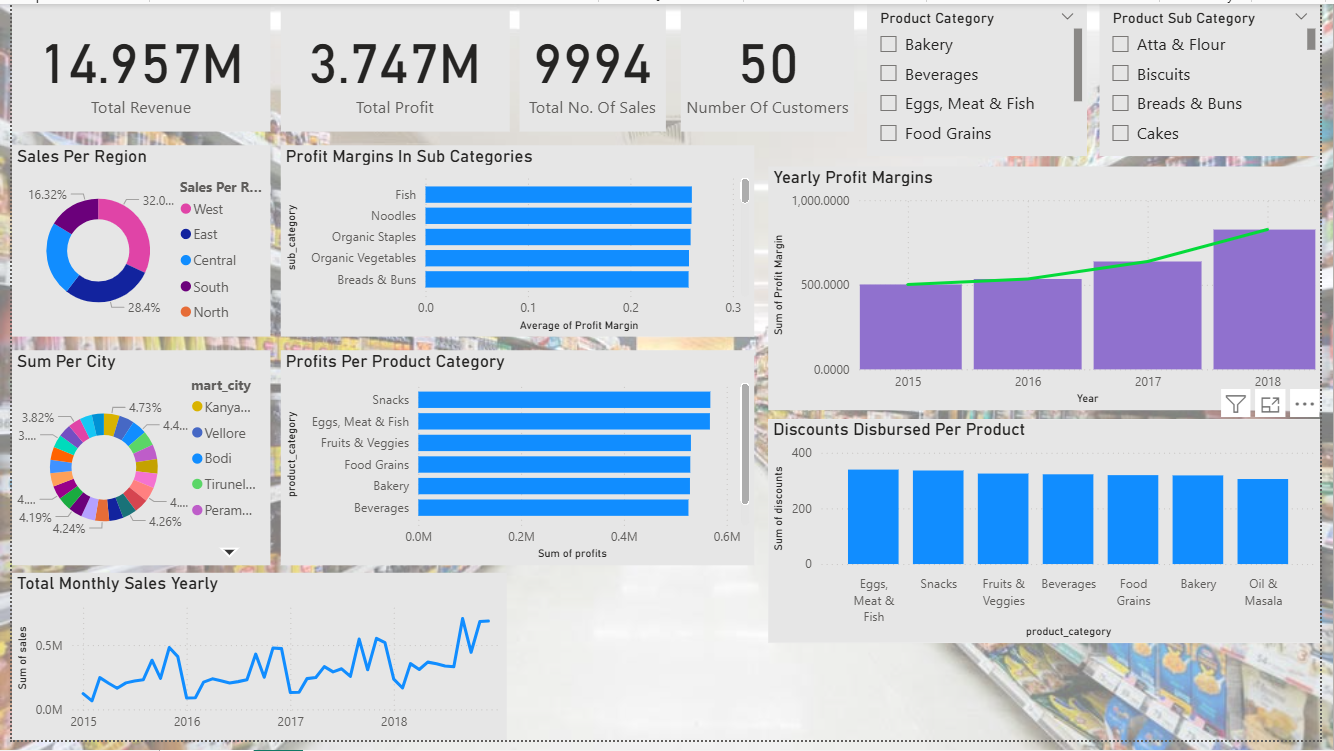

This screenshot's page, from the dashboard's own definition file:
{"tool":"powerbi","page":{"name":"Page 1","canvas":[1280,720],"ordinal":0},"visuals":[{"type":"lineChart","title":"Total Monthly Sales Yearly","fields":{"Category":["cleaned_supermart_sales_retail_data.order_date.Variation.Date Hierarchy.Year","cleaned_supermart_sales_retail_data.order_date.Variation.Date Hierarchy.Quarter","cleaned_supermart_sales_retail_data.order_date.Variation.Date Hierarchy.Month"],"Y":["Sum(cleaned_supermart_sales_retail_data.sales)"]},"box":[0,556.4,484.2,163.9],"z":0},{"type":"card","fields":{"Values":["CountNonNull(cleaned_supermart_sales_retail_data.order_id)"]},"box":[496.5,0,143.1,124.7],"z":1000},{"type":"card","fields":{"Values":["Count(cleaned_supermart_sales_retail_data.customer_name)"]},"box":[654.2,0,170,124.7],"z":2000},{"type":"slicer","fields":{"Values":["cleaned_supermart_sales_retail_data.product_category"]},"box":[836.4,0,215.2,149.2],"z":3000},{"type":"slicer","fields":{"Values":["cleaned_supermart_sales_retail_data.sub_category"]},"box":[1063.9,0,216.4,149.2],"z":4000},{"type":"donutChart","title":"Sales Per Region","fields":{"Category":["cleaned_supermart_sales_retail_data.mart_region"],"Y":["Sum(cleaned_supermart_sales_retail_data.sales)"]},"box":[0,138.2,253.1,187.1],"z":5000},{"type":"donutChart","title":"Sum Per City","fields":{"Category":["cleaned_supermart_sales_retail_data.mart_city"],"Y":["Sum(cleaned_supermart_sales_retail_data.sales)"]},"box":[0,338.7,253.1,210.3],"z":6000},{"type":"barChart","title":"Profits Per Product Category","fields":{"Category":["cleaned_supermart_sales_retail_data.product_category"],"Y":["Sum(cleaned_supermart_sales_retail_data.Profit Margin)"]},"box":[262.9,338.7,463.5,210.3],"z":7000},{"type":"card","fields":{"Values":["Sum(cleaned_supermart_sales_retail_data.sales)"]},"box":[0,0,253.1,124.7],"z":8000},{"type":"card","fields":{"Values":["Sum(cleaned_supermart_sales_retail_data.profits)"]},"box":[262.9,0,223.8,124.7],"z":9000},{"type":"barChart","title":"Profit Margins In Sub Categories","fields":{"Category":["cleaned_supermart_sales_retail_data.sub_category"],"Y":["Avg(cleaned_supermart_sales_retail_data.Profit Margin)"]},"box":[262.9,138.2,463.5,187.1],"z":9001},{"type":"lineStackedColumnComboChart","title":"Yearly Profit Margins","fields":{"Category":["cleaned_supermart_sales_retail_data.order_date.Variation.Date Hierarchy.Year"],"Y":["Sum(cleaned_supermart_sales_retail_data.Profit Margin)"],"Y2":["Sum(cleaned_supermart_sales_retail_data.Profit Margin)"]},"box":[739.8,159,540.5,238.5],"z":9002},{"type":"columnChart","title":"Discounts Disbursed Per Product","fields":{"Category":["cleaned_supermart_sales_retail_data.product_category"],"Y":["Sum(cleaned_supermart_sales_retail_data.discounts)"]},"box":[739.8,406,540.5,218.9],"z":9003}]}

Visuals, with their boxes in screenshot pixels (x1, y1, x2, y2), scaled from the page's 1280x720 canvas onto the 1334x751 screenshot:
"Total Monthly Sales Yearly" lineChart: l=0, t=580, r=505, b=750
card - CountNonNull(cleaned_supermart_sales_retail_data.order_id): l=517, t=0, r=667, b=130
card - Count(cleaned_supermart_sales_retail_data.customer_name): l=682, t=0, r=859, b=130
slicer - cleaned_supermart_sales_retail_data.product_category: l=872, t=0, r=1096, b=156
slicer - cleaned_supermart_sales_retail_data.sub_category: l=1109, t=0, r=1333, b=156
"Sales Per Region" donutChart: l=0, t=144, r=264, b=339
"Sum Per City" donutChart: l=0, t=353, r=264, b=573
"Profits Per Product Category" barChart: l=274, t=353, r=757, b=573
card - Sum(cleaned_supermart_sales_retail_data.sales): l=0, t=0, r=264, b=130
card - Sum(cleaned_supermart_sales_retail_data.profits): l=274, t=0, r=507, b=130
"Profit Margins In Sub Categories" barChart: l=274, t=144, r=757, b=339
"Yearly Profit Margins" lineStackedColumnComboChart: l=771, t=166, r=1333, b=415
"Discounts Disbursed Per Product" columnChart: l=771, t=423, r=1333, b=652
